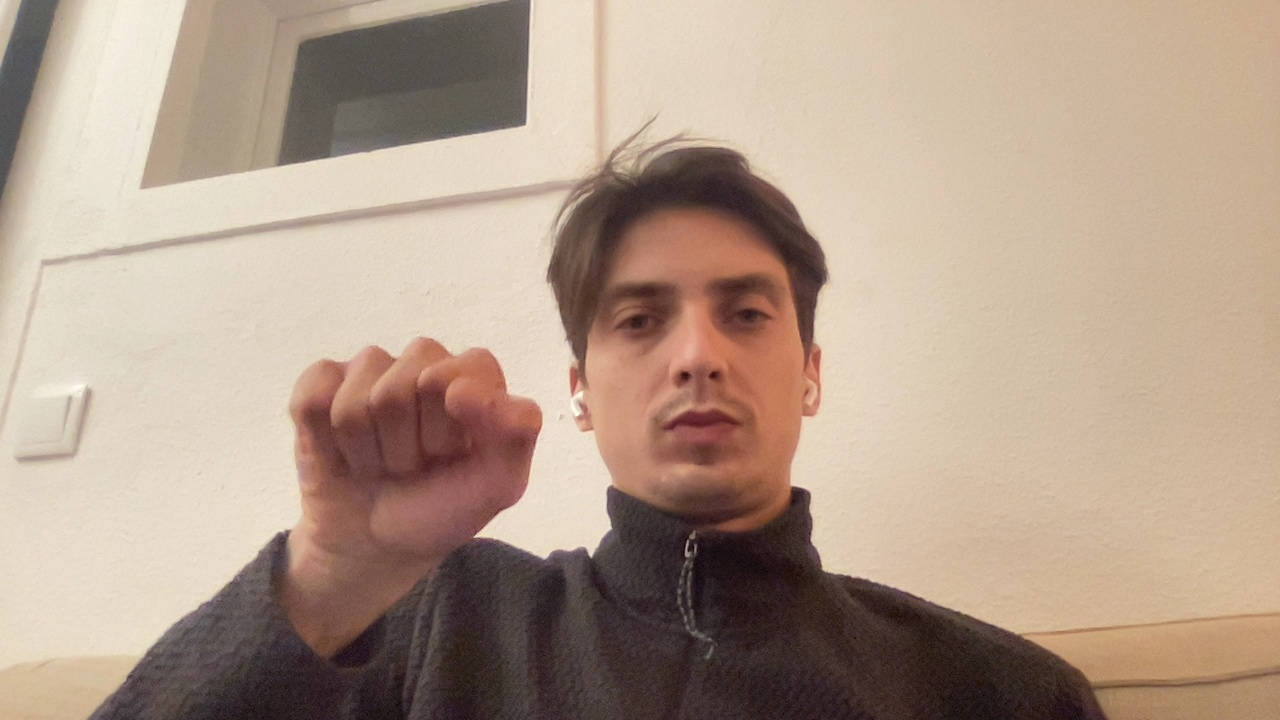Yes: (247, 287, 556, 613)
